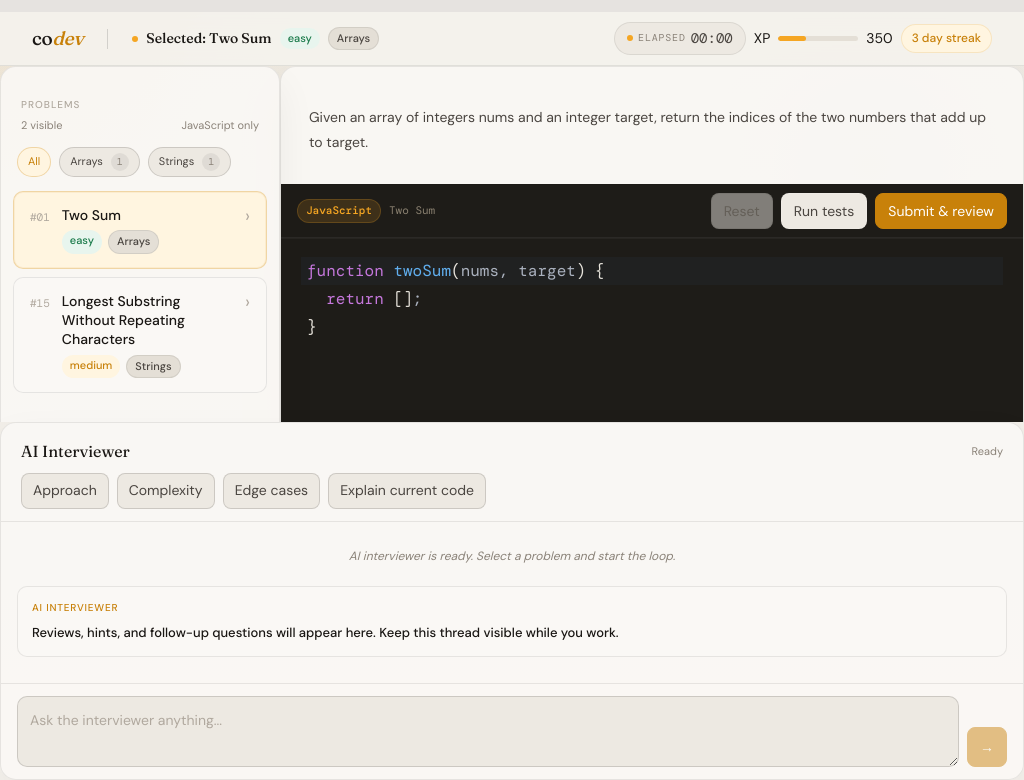
App problem list flow › filters problems by topic and keeps selection on a visible problem
The width and height of the screenshot is (1024, 780).
Expected: the heading "Selected: Two Sum" is shown, [146, 31, 272, 46]
Click the button with aria-label "Strings (1)".
click(190, 162)  # box [148, 147, 231, 177]
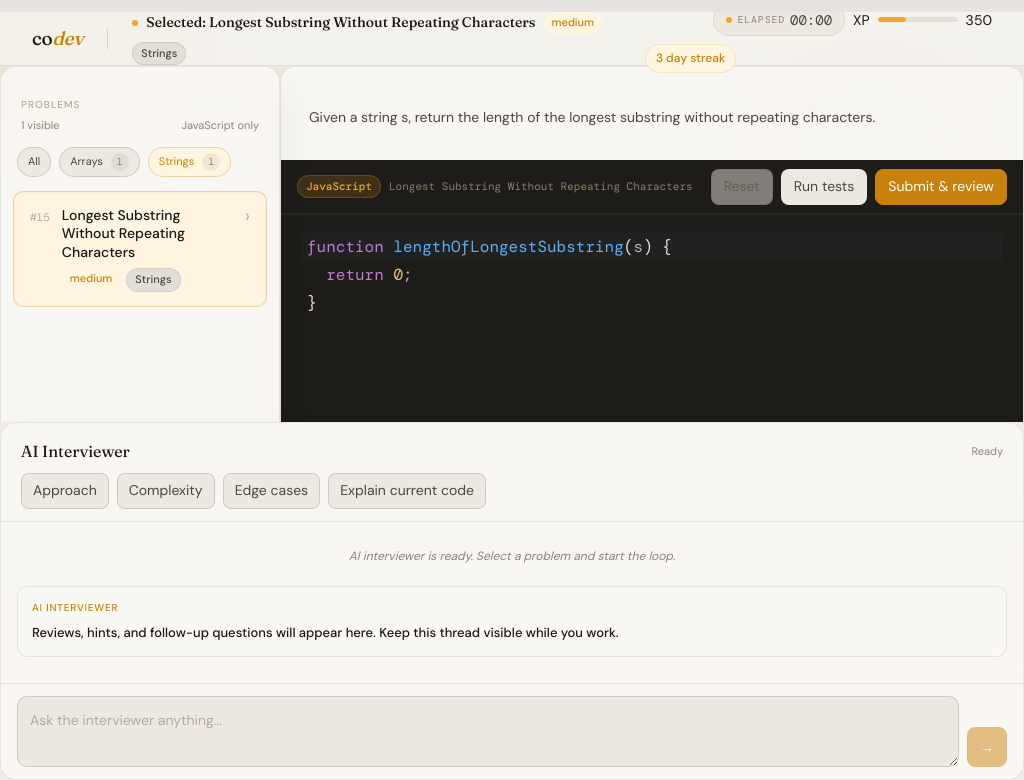
Result: the heading "Two Sum" is gone
Result: the heading "Selected: Longest Substring Without Repeating Characters" is shown at [146, 15, 536, 30]
Click the button with aria-label "All topics".
click(34, 162)  # box [17, 147, 51, 177]
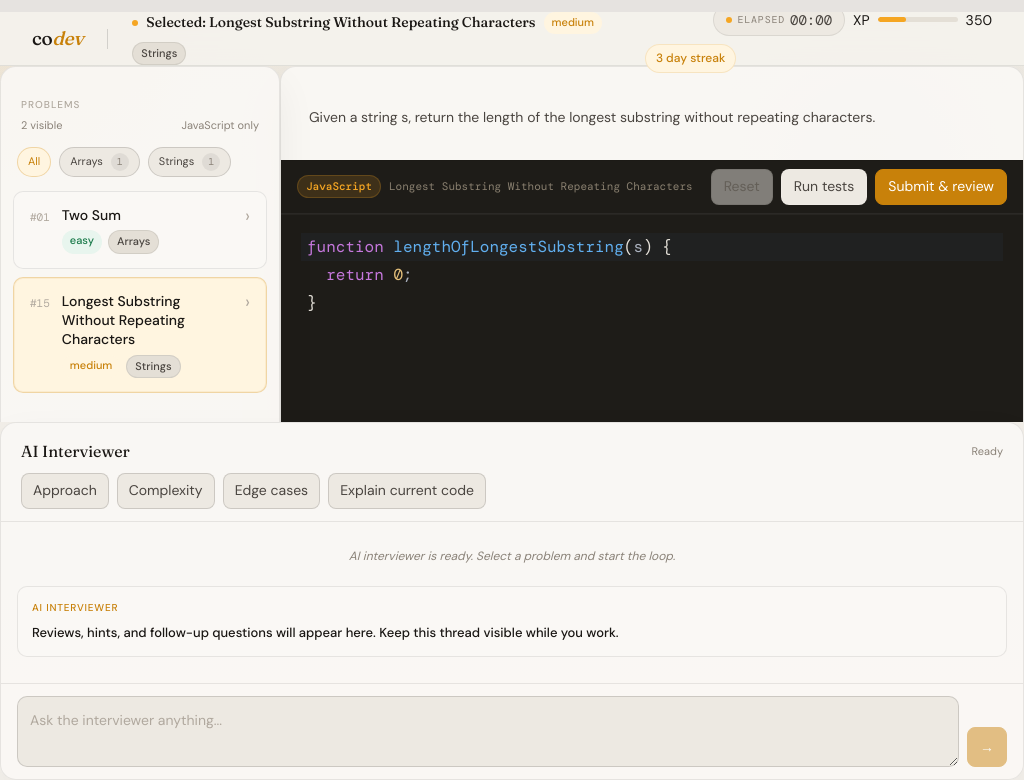
Result: the button "#01 Two Sum easy Arrays ›" is shown at [13, 191, 267, 269]
